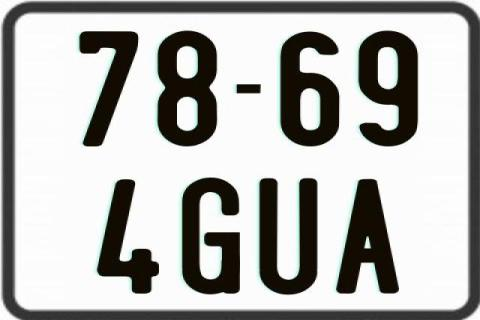0: (96, 178, 164, 294), (156, 28, 220, 149), (359, 30, 424, 146), (77, 30, 140, 146), (278, 32, 338, 151)
A: (336, 177, 404, 295)
G: (181, 176, 245, 298)
U: (259, 178, 320, 294)
